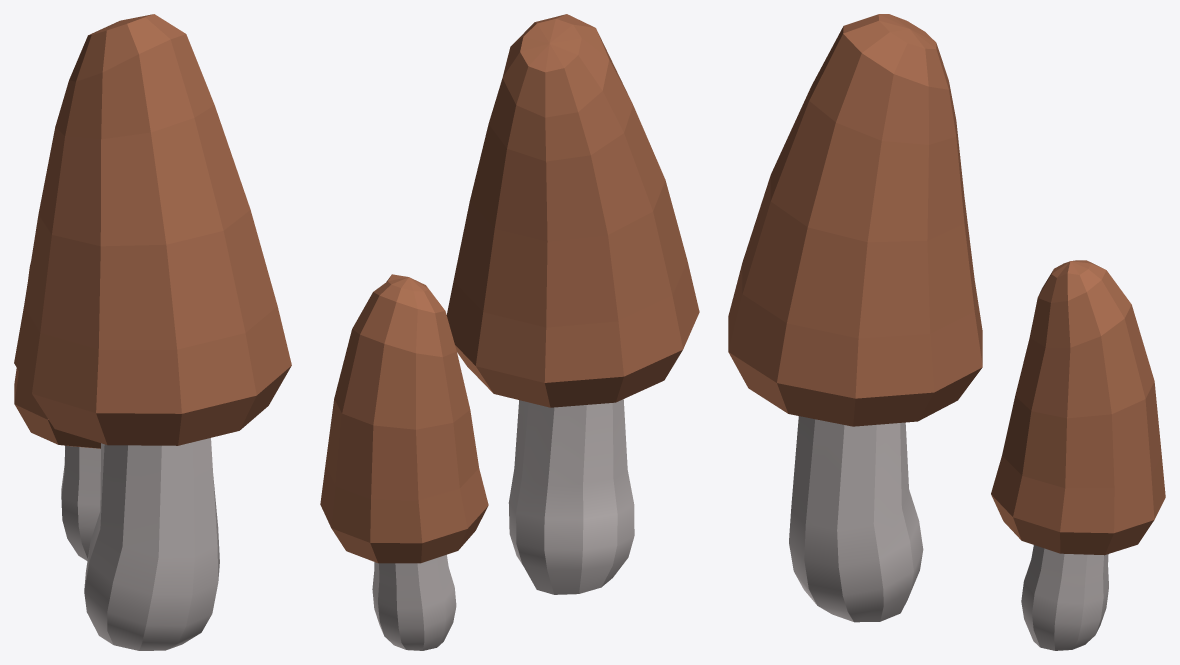
File: Mushroom3.fbx
3 renders of one model, left to right at view 1: azimuth 30°, elevation 25°; view 2: azimuth 150°, elevation 25°; view 3: azimuth 270°, elevation 25°, orthographic. The views are drawn at different scales.
Parts seen in each view (by area): view 1: Mush3_Lid, Mush3_Stem; view 2: Mush3_Lid, Mush3_Stem; view 3: Mush3_Lid, Mush3_Stem.
Boxes of the visible parts, box(x1,y1,x2,y2) form: Mush3_Lid: box(14, 14, 291, 448); Mush3_Stem: box(61, 438, 219, 650); Mush3_Lid: box(320, 14, 699, 563); Mush3_Stem: box(372, 399, 634, 650); Mush3_Lid: box(728, 14, 1165, 555); Mush3_Stem: box(789, 416, 1108, 650).
Bounding box in the file's own units: 0.9367 × 2.1 × 1.4.
